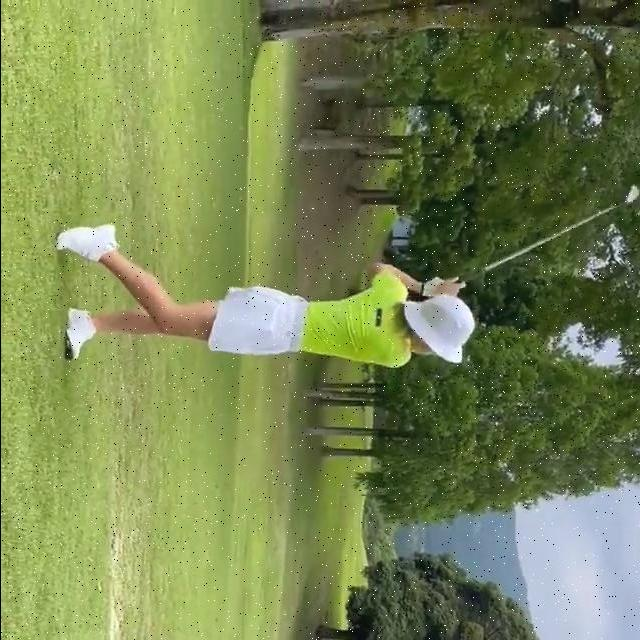golf club-handle: (455, 184, 639, 283)
golf club-head: (626, 184, 640, 202)
